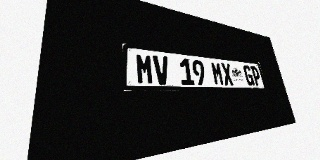1: (178, 58, 195, 85)
9: (191, 59, 207, 85)
G: (243, 65, 255, 86)
M: (135, 53, 154, 84), (210, 61, 225, 85)
P: (250, 66, 262, 86)
V: (153, 55, 171, 85)
X: (220, 63, 234, 85)
